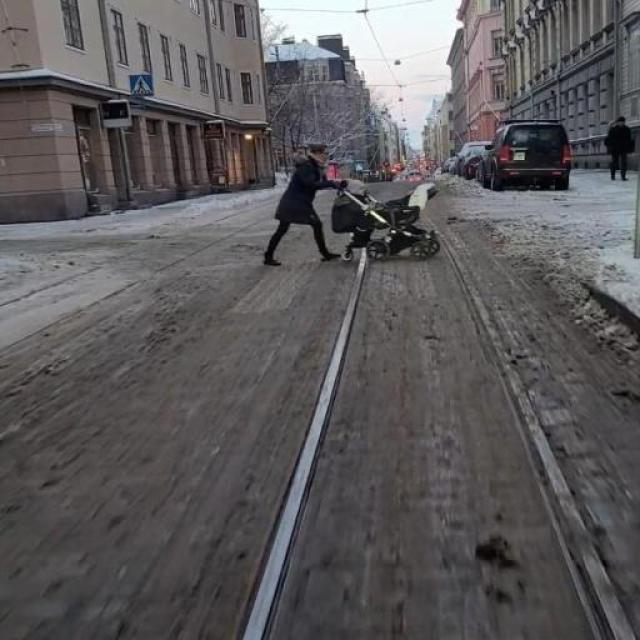Other_objects: (340, 167, 448, 267)
people: (254, 127, 342, 261)
